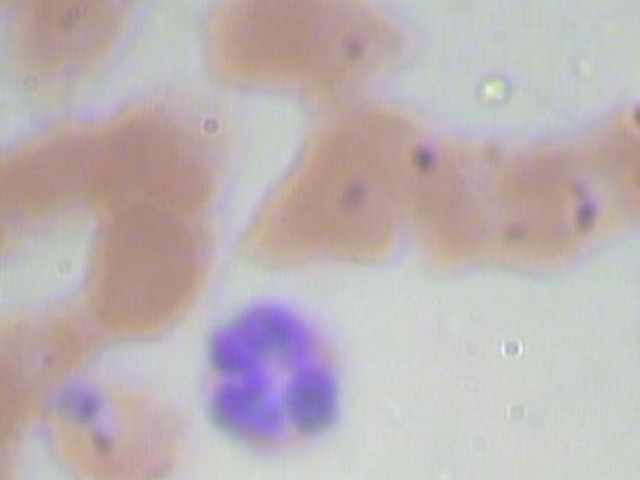RBC: (204, 0, 413, 105), (82, 200, 219, 335), (637, 222, 640, 403)
WBC: (183, 292, 358, 464)
